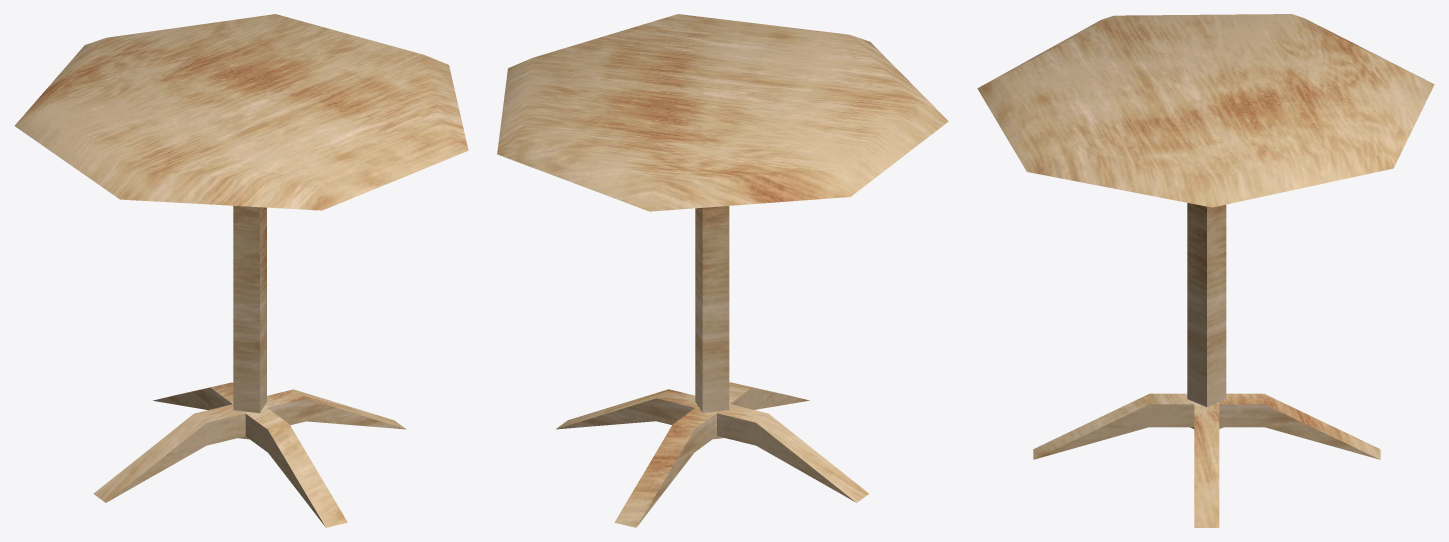
The model's file is Table_40.glb.
3 renders of one model, left to right at view 1: azimuth 30°, elevation 25°; view 2: azimuth 150°, elevation 25°; view 3: azimuth 270°, elevation 25°, orthographic.
Visible parts, largest first — view 1: Table_40; view 2: Table_40; view 3: Table_40.
Boxes of the visible parts, x1,y1,x2,y2 form: Table_40: [14, 14, 468, 527]; Table_40: [497, 14, 948, 527]; Table_40: [977, 14, 1434, 527].
Bounding box in the file's own units: 0.7371 × 0.656 × 0.7524.
1 material, 1 textured.
